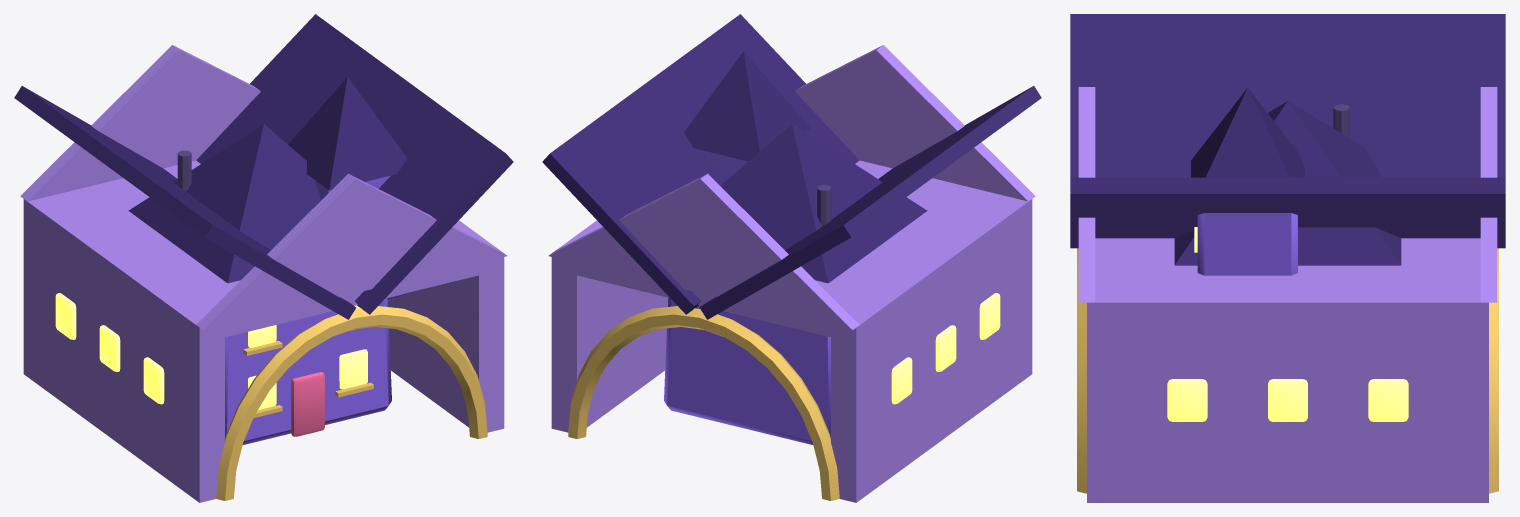
Rendered from haunted.glb.
3 views of the same model, side by side, from view 1: azimuth 30°, elevation 25°; view 2: azimuth 150°, elevation 25°; view 3: azimuth 270°, elevation 25° (orthographic). The views are drawn at different scales.
Parts seen in each view (by area): view 1: house_tunnel, haunted_house; view 2: house_tunnel, haunted_house; view 3: house_tunnel, haunted_house.
Part boxes in pixels (x1=…): house_tunnel: x1=14, y1=14, x2=513, y2=502; haunted_house: x1=128, y1=77, x2=406, y2=444; house_tunnel: x1=542, y1=14, x2=1041, y2=502; haunted_house: x1=664, y1=51, x2=927, y2=444; house_tunnel: x1=1070, y1=14, x2=1505, y2=502; haunted_house: x1=1174, y1=88, x2=1401, y2=275.
Size of the model in its own units: 12.4 by 12.3 by 13.
